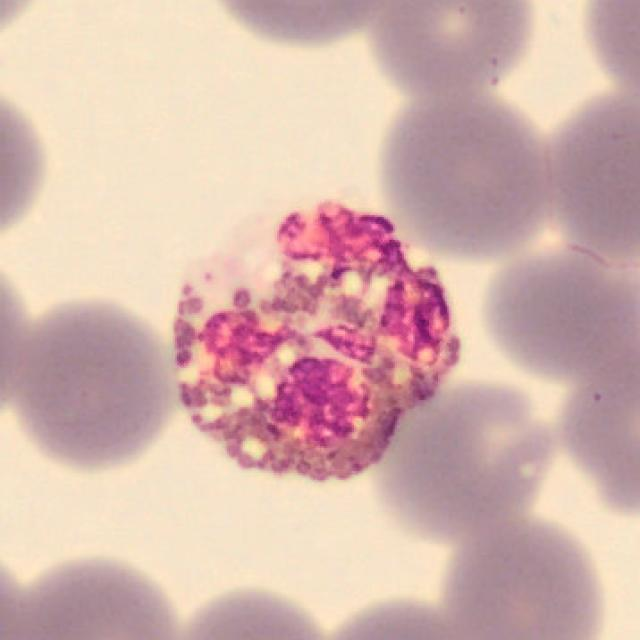Eosinofilo: (173, 201, 461, 484)
